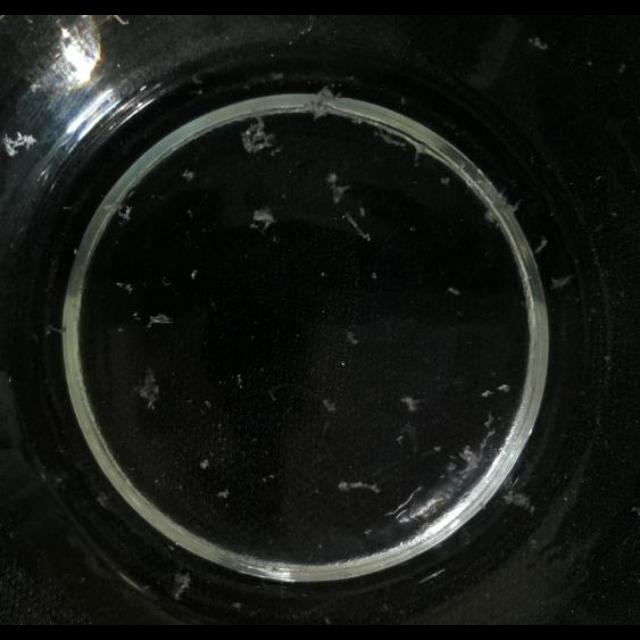Fibre: (240, 118, 278, 156), (134, 368, 162, 410), (2, 130, 38, 156), (324, 173, 352, 205), (500, 491, 532, 514), (250, 208, 276, 232), (172, 571, 192, 601), (147, 314, 173, 330), (401, 396, 422, 414), (95, 489, 113, 508), (322, 397, 338, 413), (346, 330, 360, 346)
microbeads: (530, 36, 548, 50), (182, 170, 195, 182), (217, 488, 230, 499), (447, 286, 461, 296), (496, 384, 509, 394), (199, 458, 209, 469), (190, 268, 198, 280)
